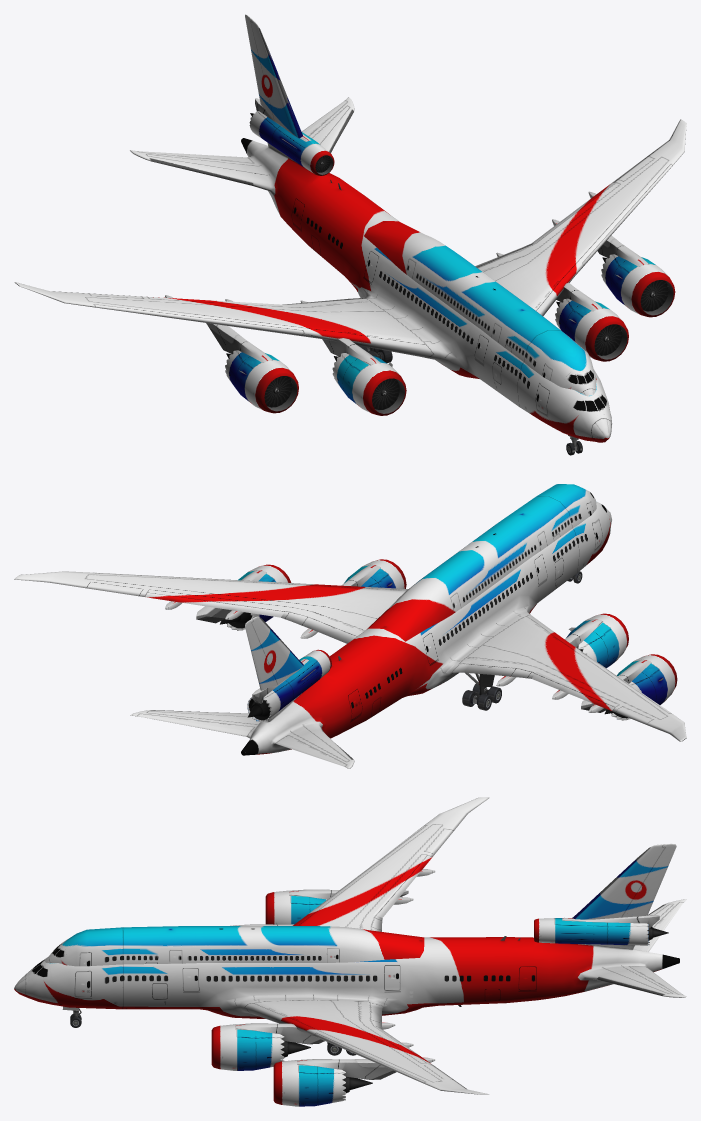
File: Boeingsam-2.FBX
The picture shows the model from 3 angles, top to bottom: view 1: azimuth 30°, elevation 25°; view 2: azimuth 150°, elevation 25°; view 3: azimuth 270°, elevation 25°; orthographic projection. The views are drawn at different scales.
Parts seen in each view (by area): view 1: samboeing, engine, engine001, bwing; view 2: samboeing, engine, engine001, mleftwing, bwing, Bleftwing, aileron, mrightwing, brightwing; view 3: samboeing, engine, engine001, bwing, mrightwing.
Boxes of the visible parts, box(x1,y1,x2,y2) form: samboeing: box(14, 18, 686, 442); engine: box(206, 235, 675, 415); engine001: box(249, 98, 334, 175); bwing: box(245, 14, 271, 110); samboeing: box(14, 484, 686, 768); engine: box(196, 559, 677, 720); engine001: box(247, 649, 331, 721); mleftwing: box(145, 593, 285, 617); bwing: box(245, 620, 275, 689); Bleftwing: box(137, 714, 253, 736); aileron: box(165, 601, 603, 712); mrightwing: box(531, 672, 615, 710); brightwing: box(276, 735, 347, 766); samboeing: box(14, 797, 686, 1094); engine: box(211, 889, 408, 1106); engine001: box(534, 915, 668, 945); bwing: box(624, 843, 676, 914); mrightwing: box(373, 855, 432, 917).
Size of the model in its own units: 2308 by 662 by 2210.
Materials: 1 (1 with a texture image).
